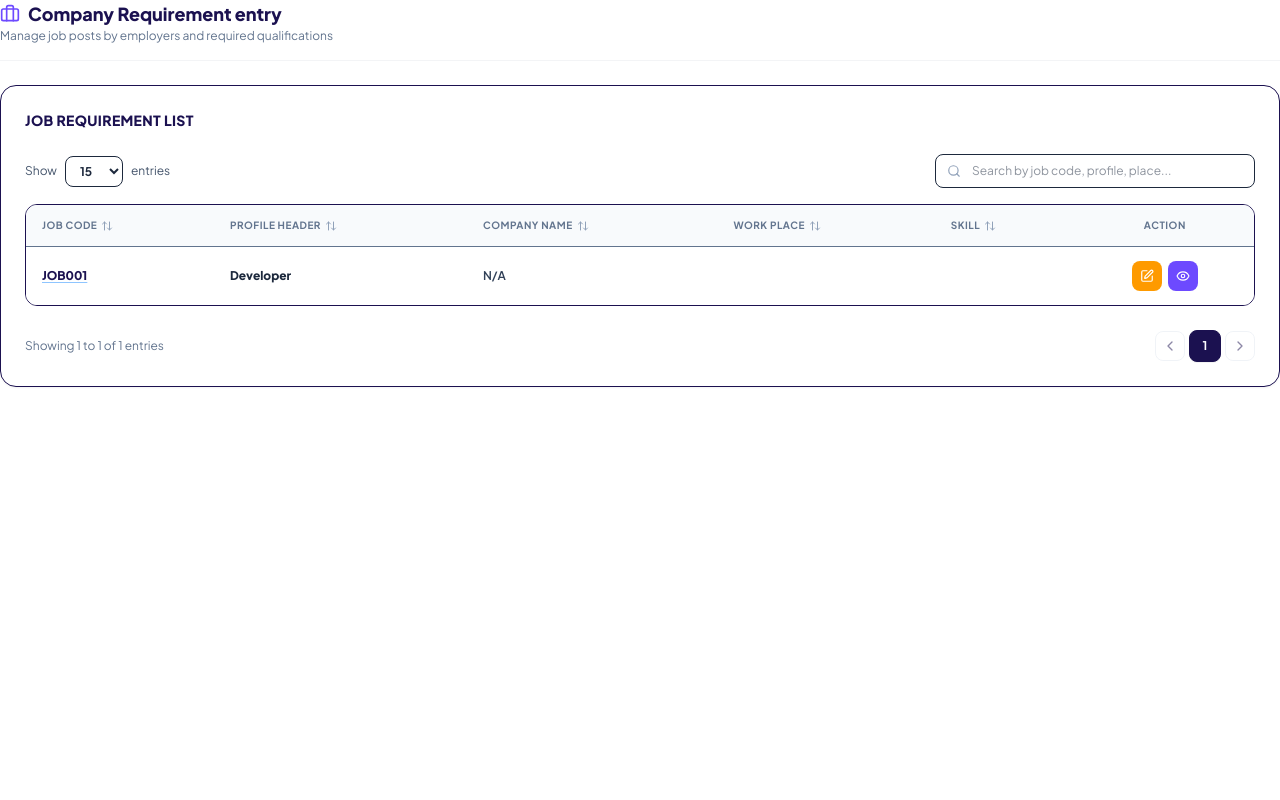
Test: AdminJobRequirements › opens view modal on eye click
Check: the link "JOB001" is shown, box [42, 268, 87, 283]
Click the button titled "View Requirements" at (1183, 276), box [1168, 261, 1198, 291]
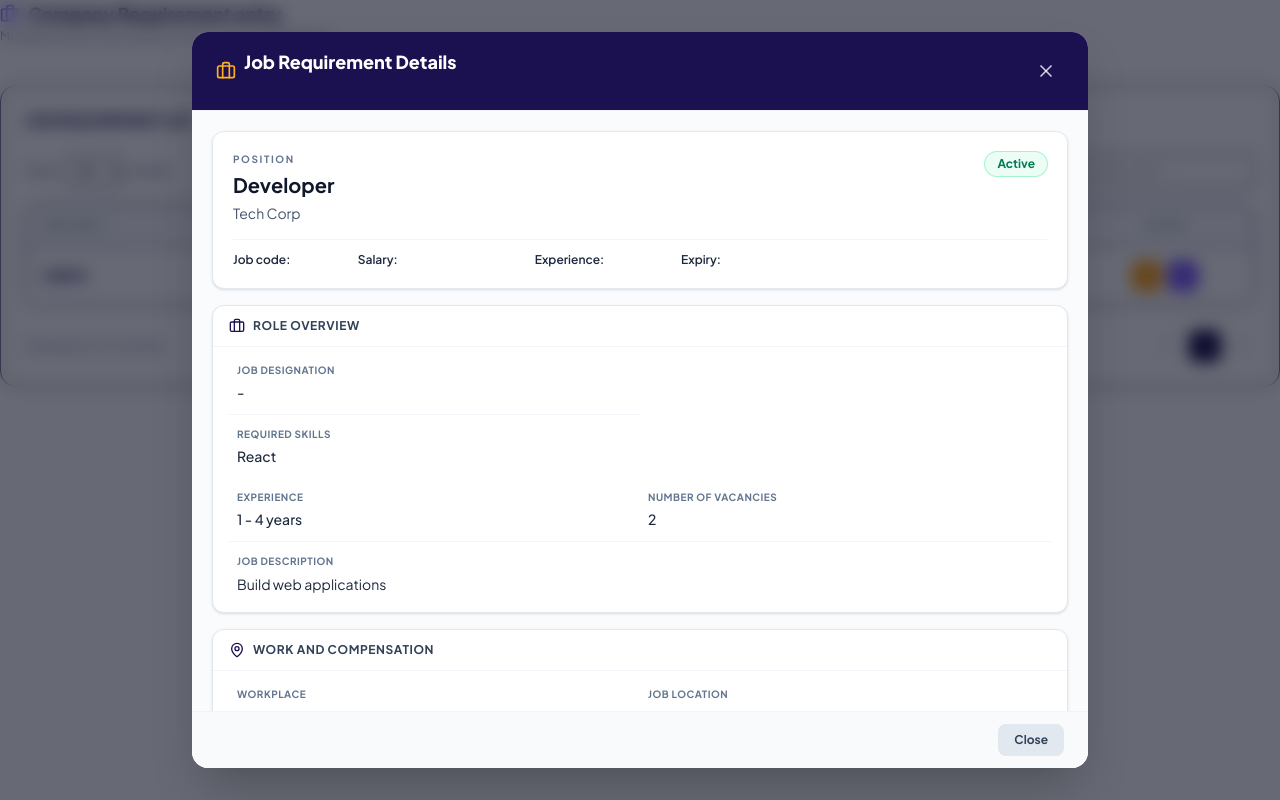
Check: the heading "Job Requirement Details" is shown, box [244, 48, 456, 76]
Check: the text "React" is shown, box [237, 447, 276, 465]
Check: the text "Build web applications" is shown, box [237, 575, 386, 593]
